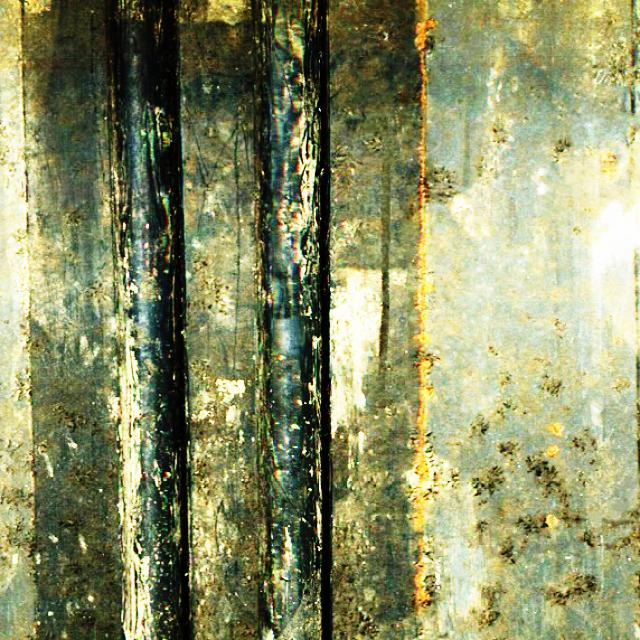Corrosion: (415, 19, 436, 349), (410, 359, 431, 528), (413, 536, 429, 604), (548, 422, 562, 437), (601, 151, 614, 163), (546, 514, 558, 526), (547, 446, 558, 457)
